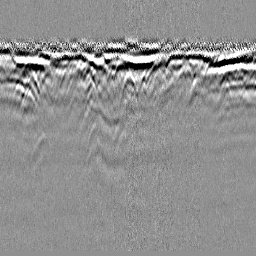cavity: (119, 69, 139, 105)
